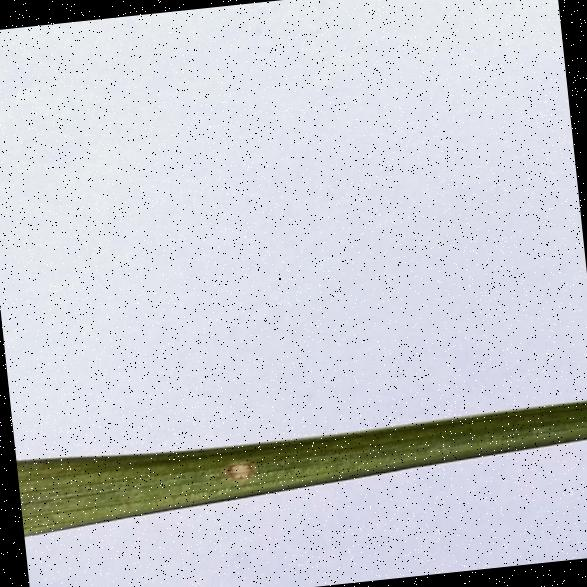Leaf_smut: (218, 456, 259, 485)
